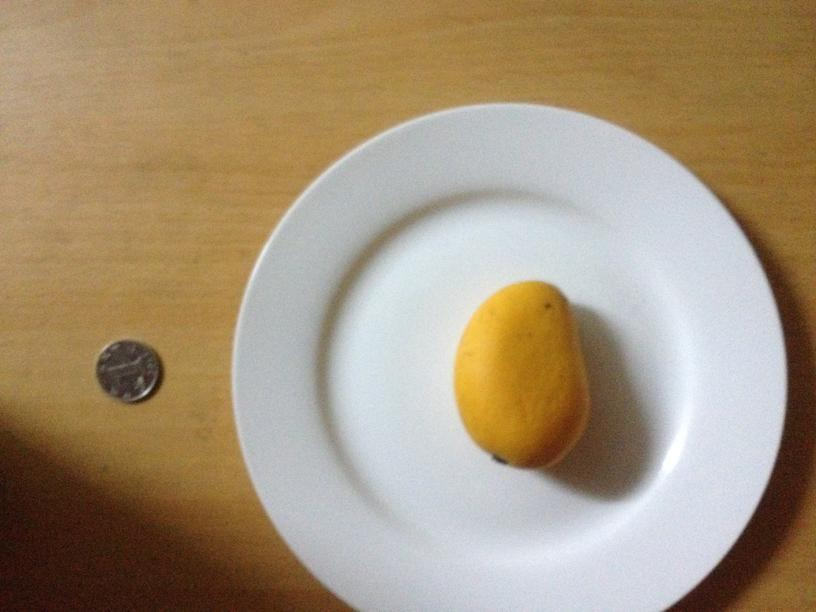coin: (92, 339, 160, 401)
mango: (456, 280, 588, 466)
